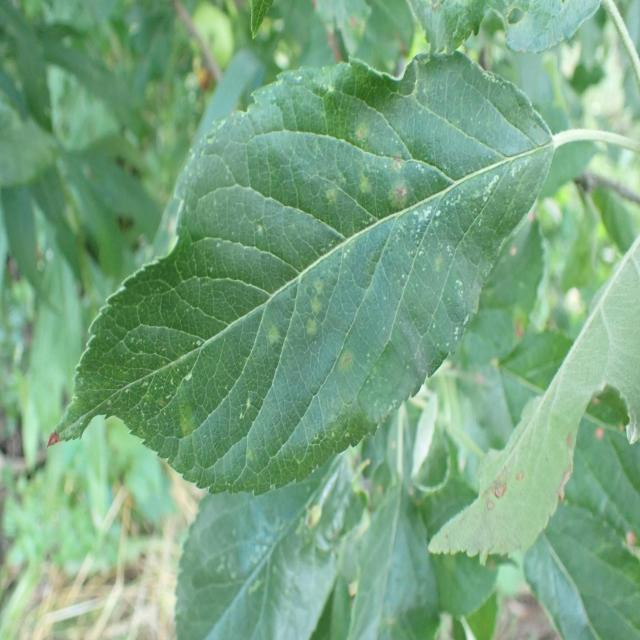scab: (104, 61, 539, 436)
